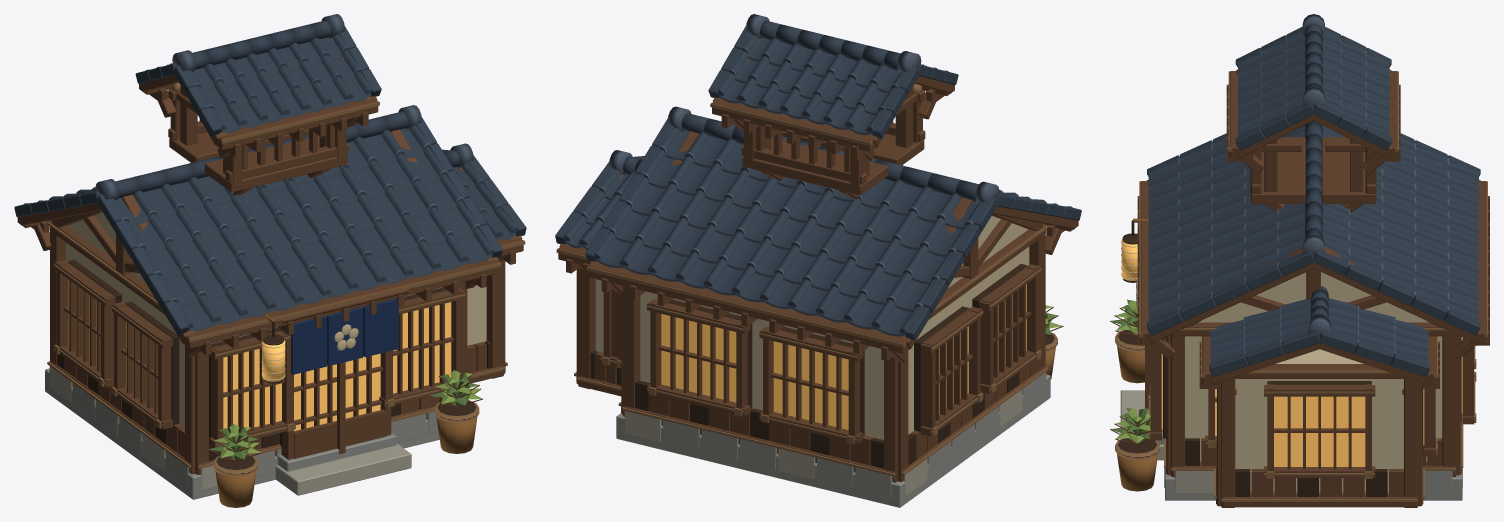
3 renders of one model, left to right at view 1: azimuth 30°, elevation 25°; view 2: azimuth 150°, elevation 25°; view 3: azimuth 270°, elevation 25°, orthographic.
Parts seen in each view (by area): view 1: compact_tower_1_geometry; view 2: compact_tower_1_geometry; view 3: compact_tower_1_geometry.
Part boxes in pixels (x1=…): compact_tower_1_geometry: x1=14, y1=14, x2=526, y2=507; compact_tower_1_geometry: x1=555, y1=14, x2=1081, y2=507; compact_tower_1_geometry: x1=1110, y1=14, x2=1489, y2=507.
Size of the model in its own units: 0.8171 by 0.78 by 0.7087.
